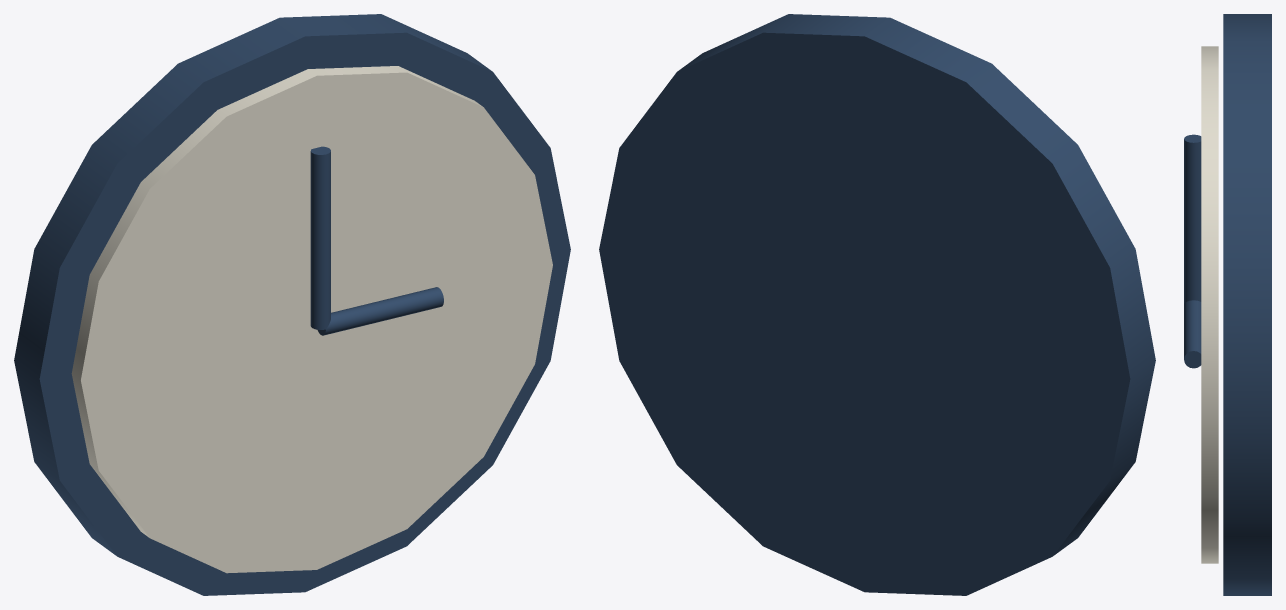
The model's file is clock.glb.
3 renders of one model, left to right at view 1: azimuth 30°, elevation 25°; view 2: azimuth 150°, elevation 25°; view 3: azimuth 270°, elevation 25°, orthographic. The views are drawn at different scales.
Parts seen in each view (by area): view 1: _MeshInstance3D_1167, _MeshInstance3D_1166, _MeshInstance3D_1169, _MeshInstance3D_1168; view 2: _MeshInstance3D_1166; view 3: _MeshInstance3D_1166, _MeshInstance3D_1167, _MeshInstance3D_1169, _MeshInstance3D_1168.
Part boxes in pixels (x1,y1,x2,y2): _MeshInstance3D_1167: (71,66,552,573); _MeshInstance3D_1166: (14,14,570,595); _MeshInstance3D_1169: (310,146,330,329); _MeshInstance3D_1168: (317,287,443,335); _MeshInstance3D_1166: (599,14,1155,595); _MeshInstance3D_1166: (1223,14,1271,595); _MeshInstance3D_1167: (1201,46,1218,563); _MeshInstance3D_1169: (1184,134,1201,304); _MeshInstance3D_1168: (1184,300,1201,368).
Size of the model in its own units: 0.54 by 0.54 by 0.0815.
